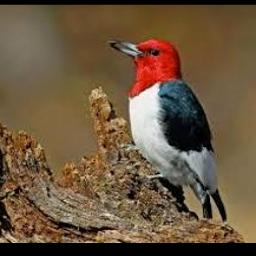Woodpecker: (110, 38, 228, 222)
